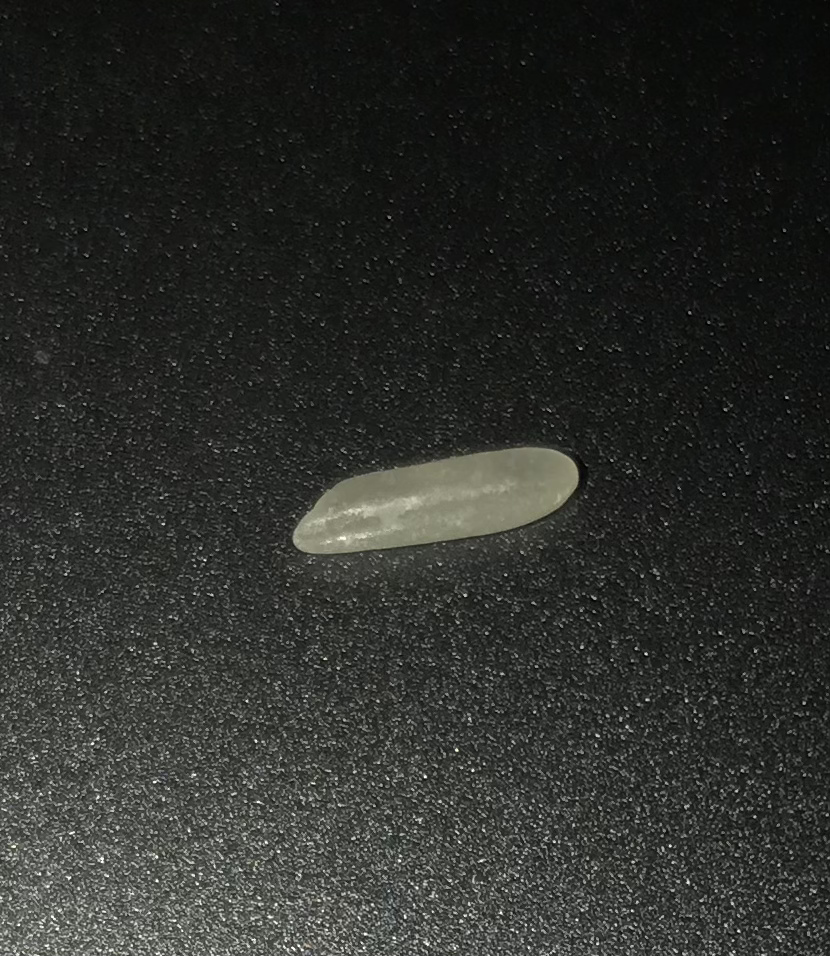Gao Thom My: (304, 446, 589, 562)
